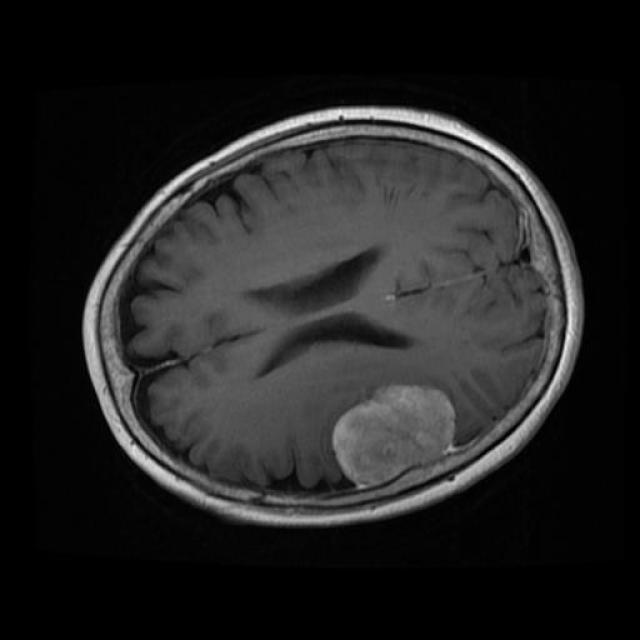Meningioma: (332, 385, 455, 489)
